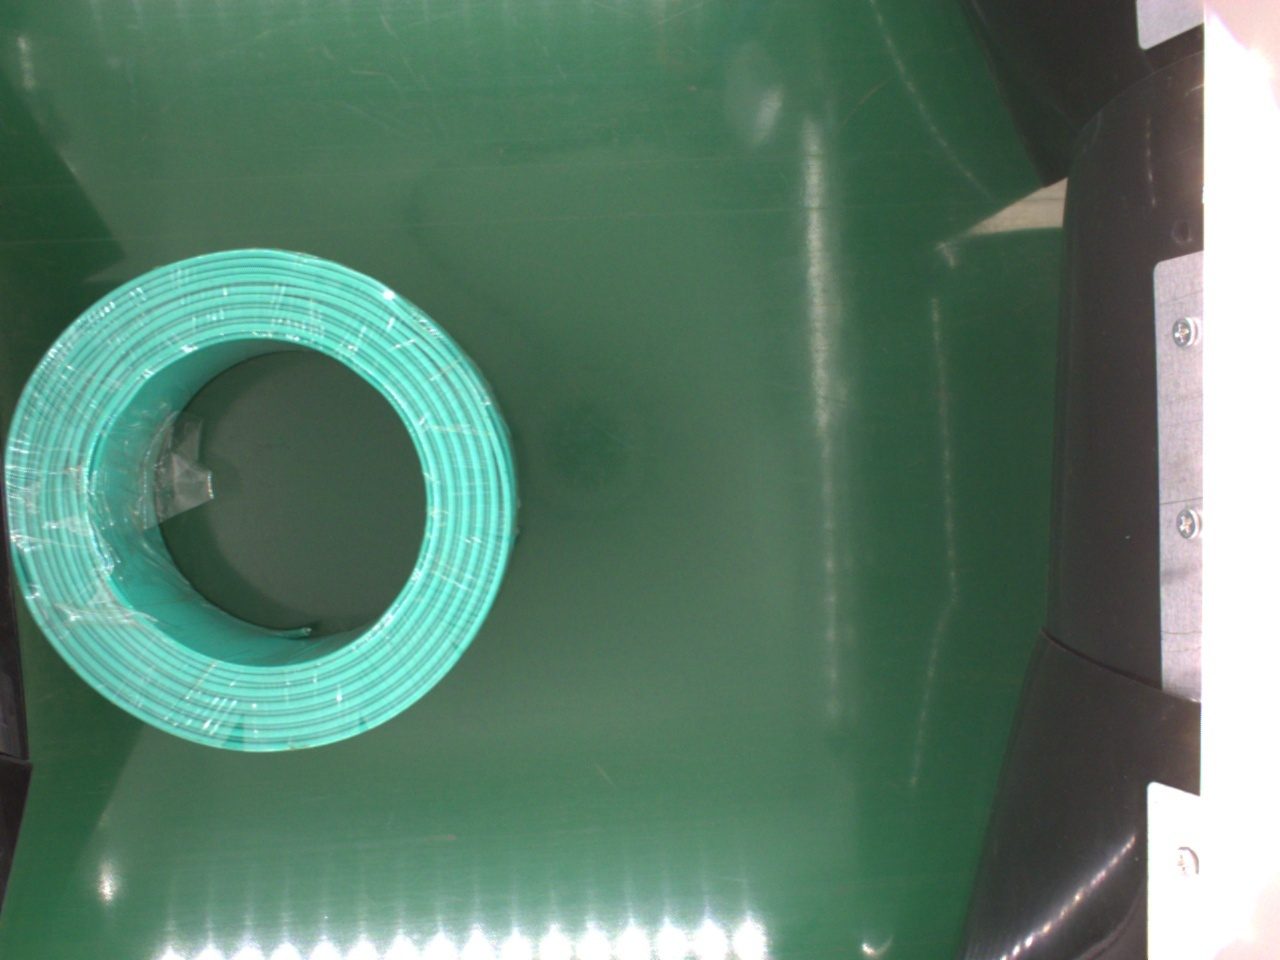green: (8, 250, 518, 756)
